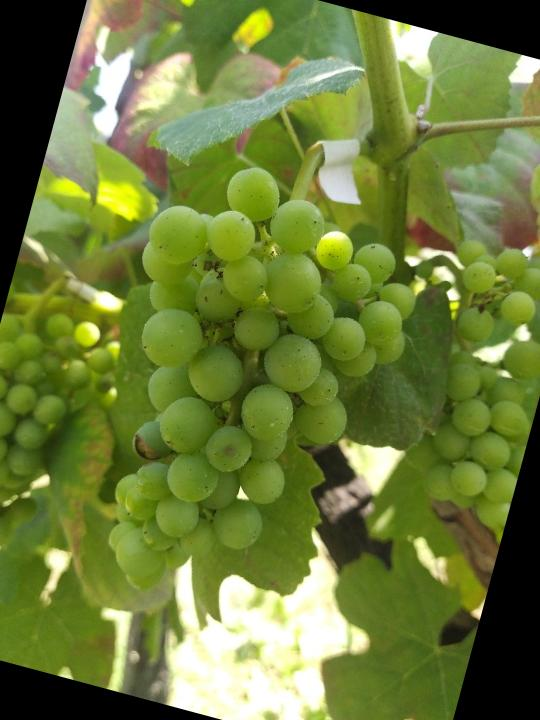grape: (55, 140, 444, 645)
